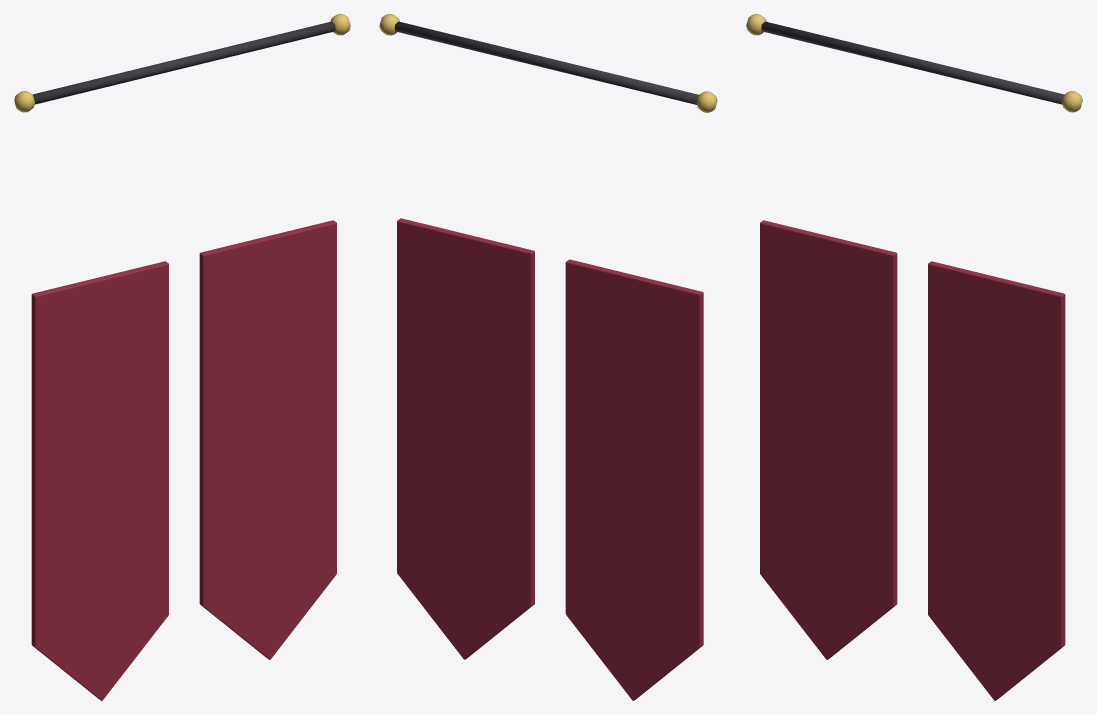
File: banner_twin_pennants.glb
The picture shows the model from 3 angles, left to right: view 1: azimuth 30°, elevation 25°; view 2: azimuth 150°, elevation 25°; view 3: azimuth 330°, elevation 25°; orthographic projection.
Visible parts, largest first — view 1: GD_banner_twin_pennants__m2, GD_banner_twin_pennants__m0, GD_banner_twin_pennants__m1; view 2: GD_banner_twin_pennants__m2, GD_banner_twin_pennants__m0, GD_banner_twin_pennants__m1; view 3: GD_banner_twin_pennants__m2, GD_banner_twin_pennants__m0, GD_banner_twin_pennants__m1.
Boxes of the visible parts, <box> form: GD_banner_twin_pennants__m2: <box>31,220,336,700</box>; GD_banner_twin_pennants__m0: <box>32,21,335,104</box>; GD_banner_twin_pennants__m1: <box>14,14,350,112</box>; GD_banner_twin_pennants__m2: <box>397,218,703,700</box>; GD_banner_twin_pennants__m0: <box>394,21,698,104</box>; GD_banner_twin_pennants__m1: <box>379,14,717,112</box>; GD_banner_twin_pennants__m2: <box>760,220,1065,700</box>; GD_banner_twin_pennants__m0: <box>761,21,1064,104</box>; GD_banner_twin_pennants__m1: <box>746,14,1082,112</box>.
Bounding box in the file's own units: 0.996 × 1.78 × 0.056.
